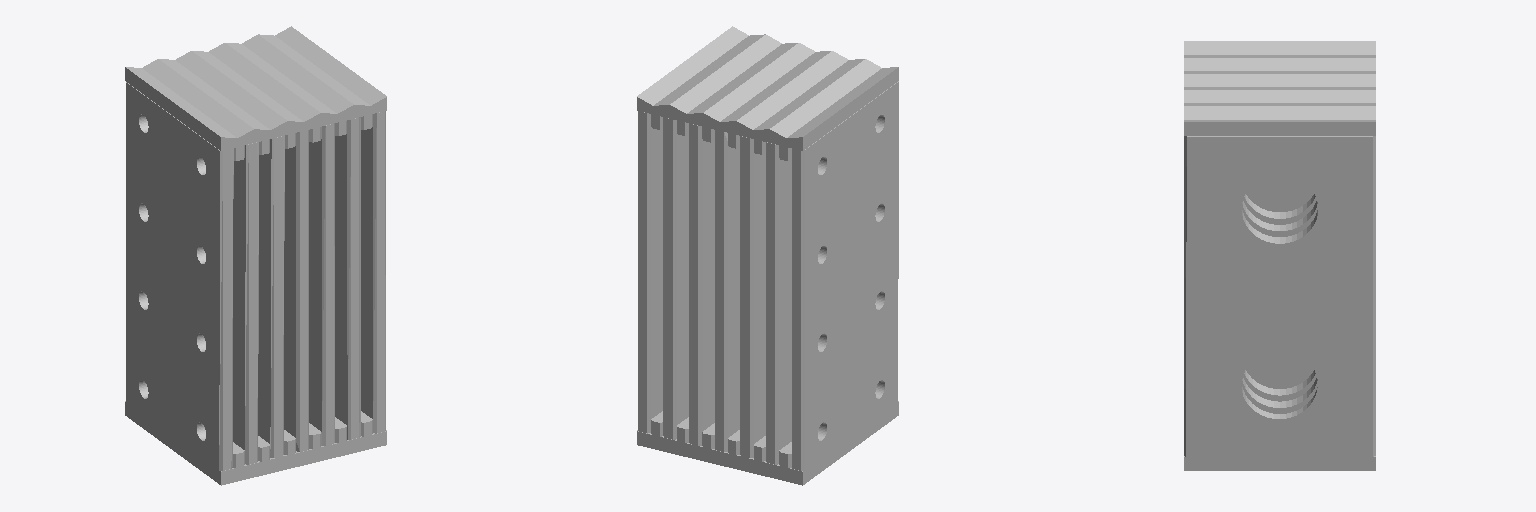
File: Salina_26(first Model).obj
3 renders of one model, left to right at view 1: azimuth 30°, elevation 25°; view 2: azimuth 150°, elevation 25°; view 3: azimuth 270°, elevation 25°, orthographic.
Visible parts, largest first — view 1: Object_32; view 2: Object_32; view 3: Object_32.
Boxes of the visible parts, <box> form: Object_32: <box>125,26,386,485</box>; Object_32: <box>637,26,898,485</box>; Object_32: <box>1184,41,1375,470</box>.
Bounding box in the file's own units: 0.005 × 0.01 × 0.005.